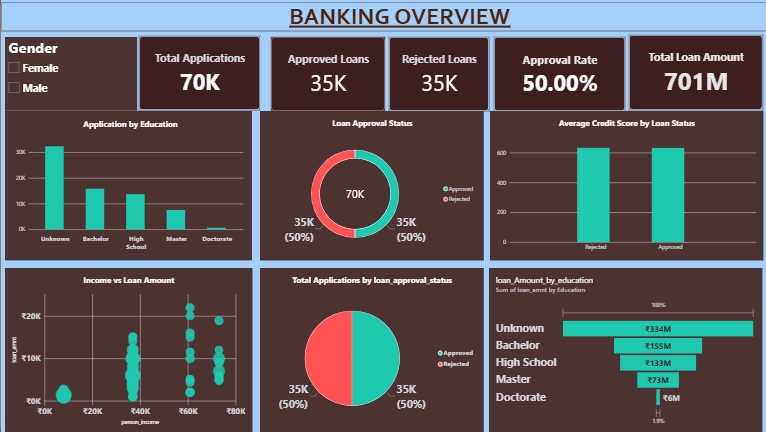

What the dashboard file says about the page in this screenshot:
{"tool":"powerbi","page":{"name":"Banking Overview","canvas":[1920,1080],"ordinal":0},"visuals":[{"type":"cardVisual","fields":{"Data":["gender.Total Applications"]},"box":[345.6,90.7,302.4,185.8],"z":0},{"type":"cardVisual","fields":{"Data":["Loan Approval Prediction.Approved Loans"]},"box":[673.9,92.9,285.1,185.8],"z":1000},{"type":"cardVisual","fields":{"Data":["Loan Approval Prediction.Rejected Loans"]},"box":[969.8,92.9,250.6,185.8],"z":2000},{"type":"cardVisual","fields":{"Data":["Loan Approval Prediction.Approval Rate"]},"box":[1233.4,92.9,328.3,185.8],"z":3000},{"type":"cardVisual","fields":{"Data":["Loan Approval Prediction.Total Loan Amount"]},"box":[1570.3,88.6,334.8,187.9],"z":4000},{"type":"slicer","title":"Average credit Score","fields":{"Values":["gender.Gendre"]},"box":[10.8,92.9,330.5,183.6],"z":5000},{"type":"clusteredColumnChart","title":"Application by Education","fields":{"Category":["Loan Approval Prediction.Education"],"Y":["Loan Approval Prediction.Total Applications"]},"box":[10.8,278.6,617.3,372.9],"z":6000},{"type":"donutChart","title":"Loan Approval Status","fields":{"Category":["Loan Approval Prediction.loan_approval_status"],"Y":["Loan Approval Prediction.Total Applications"]},"box":[648,278.6,559.4,372.9],"z":7000},{"type":"scatterChart","title":"Income vs Loan Amount","fields":{"Size":["Sum(Loan Approval Prediction.credit_score)"],"X":["Sum(Loan Approval Prediction.person_income)"],"Y":["Sum(Loan Approval Prediction.loan_amnt)"]},"box":[10.8,669.6,617.8,410.4],"z":8000},{"type":"pieChart","fields":{"Category":["Loan Approval Prediction.loan_approval_status"],"Y":["Loan Approval Prediction.Total Applications"]},"box":[648,669.6,559.4,410.4],"z":9000},{"type":"clusteredColumnChart","title":"Average Credit Score by Loan Status","fields":{"Category":["Loan Approval Prediction.loan_approval_status"],"Y":["Loan Approval Prediction.Average Credit Score"]},"box":[1222.6,278.6,682.8,372.9],"z":10000},{"type":"funnel","title":"loan_Amount_by_education","fields":{"Category":["Loan Approval Prediction.Education"],"Y":["Sum(Loan Approval Prediction.loan_amnt)"]},"box":[1220.4,669.6,682.6,410.4],"z":11000},{"type":"textbox","box":[0,5,1920,73.1],"z":12000}]}

Visuals, with their boxes in screenshot pixels (x1, y1, x2, y2), scaled from the page's 1920x1080 canvas onto the 766x432 screenshot:
cardVisual - gender.Total Applications: <box>138,36,259,111</box>
cardVisual - Loan Approval Prediction.Approved Loans: <box>269,37,383,111</box>
cardVisual - Loan Approval Prediction.Rejected Loans: <box>387,37,487,111</box>
cardVisual - Loan Approval Prediction.Approval Rate: <box>492,37,623,111</box>
cardVisual - Loan Approval Prediction.Total Loan Amount: <box>626,35,760,111</box>
"Average credit Score" slicer: <box>4,37,136,111</box>
"Application by Education" clusteredColumnChart: <box>4,111,251,261</box>
"Loan Approval Status" donutChart: <box>259,111,482,261</box>
"Income vs Loan Amount" scatterChart: <box>4,268,251,431</box>
pieChart - Loan Approval Prediction.loan_approval_status x Loan Approval Prediction.Total Applications: <box>259,268,482,431</box>
"Average Credit Score by Loan Status" clusteredColumnChart: <box>488,111,760,261</box>
"loan_Amount_by_education" funnel: <box>487,268,759,431</box>
textbox: <box>0,2,765,31</box>
